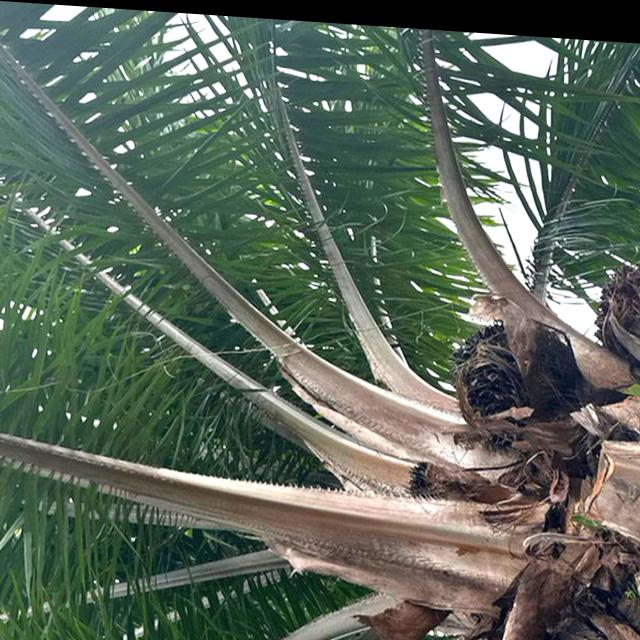unripe: (448, 303, 532, 437)
